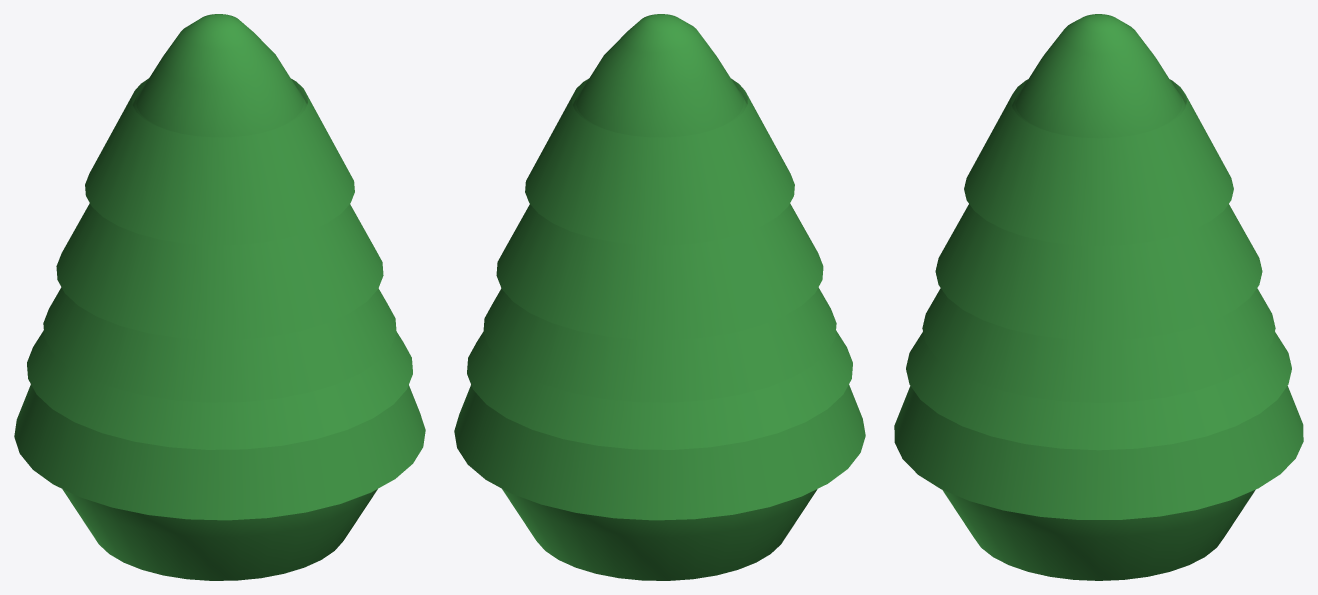
File: Tree01.fbx
The picture shows the model from 3 angles, left to right: view 1: azimuth 30°, elevation 25°; view 2: azimuth 150°, elevation 25°; view 3: azimuth 270°, elevation 25°; orthographic projection.
Visible parts, largest first — view 1: Tree01; view 2: Tree01; view 3: Tree01.
Boxes of the visible parts, x1=… form: Tree01: x1=14, y1=14, x2=425, y2=580; Tree01: x1=454, y1=14, x2=865, y2=580; Tree01: x1=894, y1=14, x2=1303, y2=580.
Size of the model in its own units: 559 by 766 by 559.
